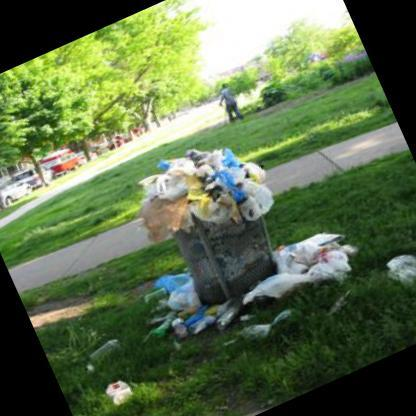Garbage: (119, 119, 290, 263), (134, 259, 206, 344), (292, 215, 364, 279), (197, 136, 271, 194), (272, 216, 346, 271), (124, 188, 190, 249), (154, 146, 216, 208), (230, 304, 302, 351), (92, 370, 152, 415), (235, 174, 286, 226), (254, 266, 314, 308), (375, 242, 415, 295), (192, 190, 240, 232), (158, 278, 200, 324), (196, 301, 240, 336), (176, 148, 218, 180), (155, 148, 197, 178), (82, 334, 119, 366), (318, 251, 350, 284), (147, 264, 179, 292), (217, 164, 251, 190), (138, 175, 164, 197)
